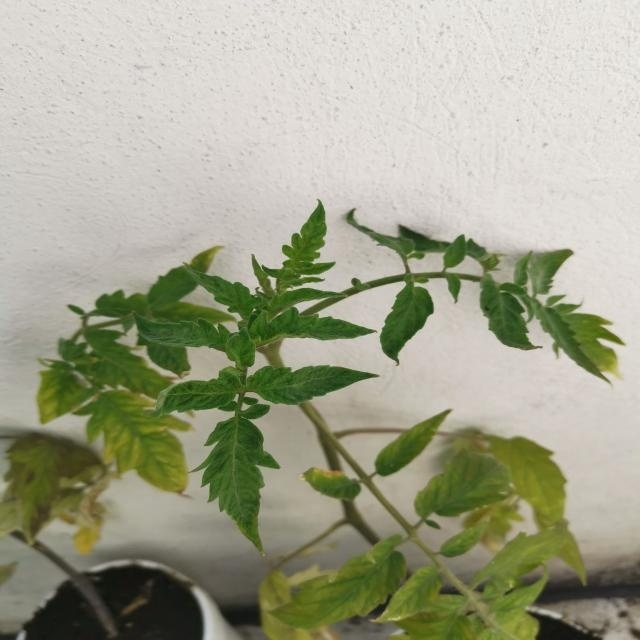T_L_H: (381, 275, 434, 365)
T_L_R: (186, 417, 282, 558), (246, 365, 380, 406), (185, 264, 263, 334), (249, 307, 379, 349), (142, 371, 245, 419), (133, 312, 231, 353), (283, 201, 328, 272), (264, 289, 350, 316), (226, 328, 257, 371)
